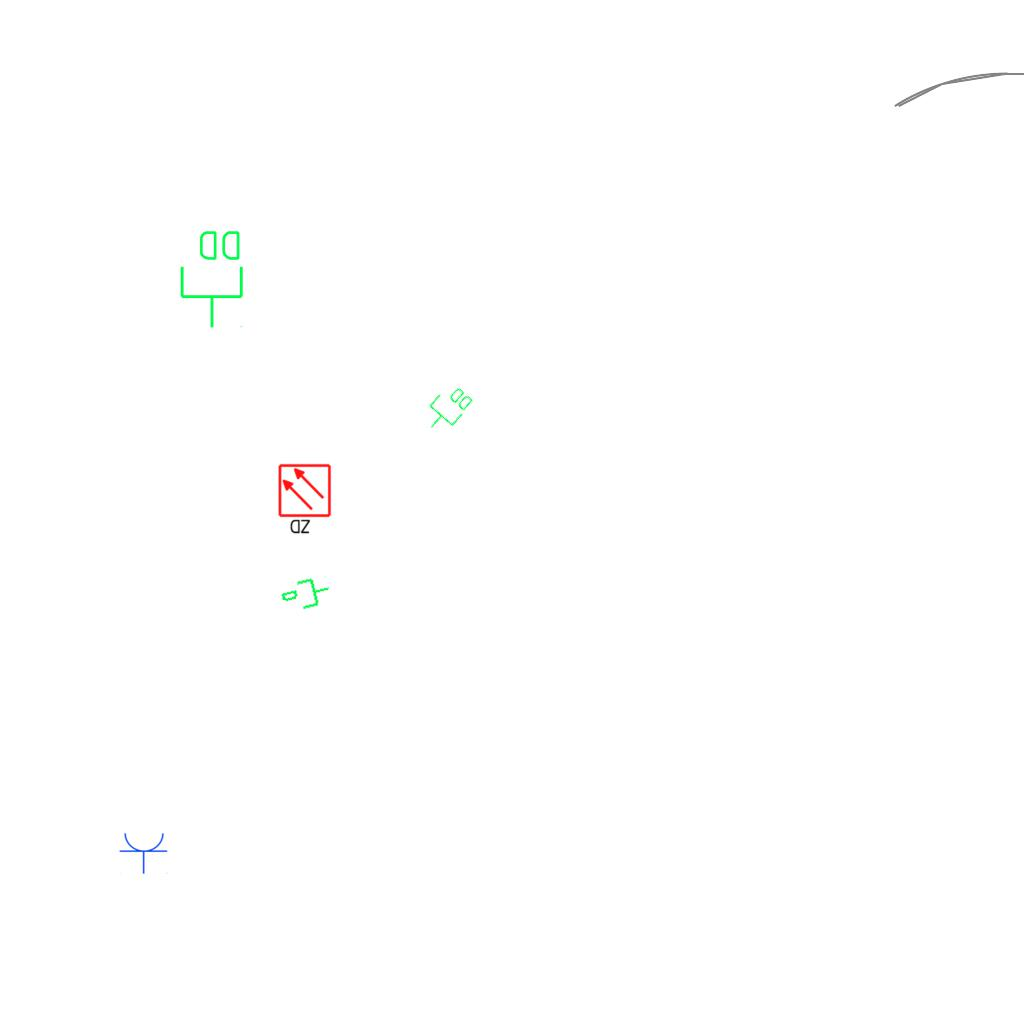Datenanschluss_einfach: (277, 572, 335, 618)
Datenanschluss_zweifach: (178, 227, 247, 330), (417, 378, 478, 440)
Schukosteckdose_einfach: (119, 831, 169, 874)
ZD_Melder_in_Zwischendecke_mit_Revisionsoeffnung_mind_40_x_40_cm: (277, 463, 334, 537)
